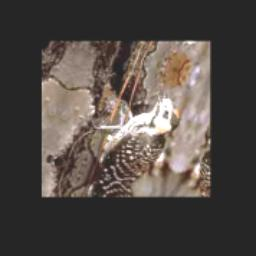Woodpecker: (79, 63, 192, 190)
